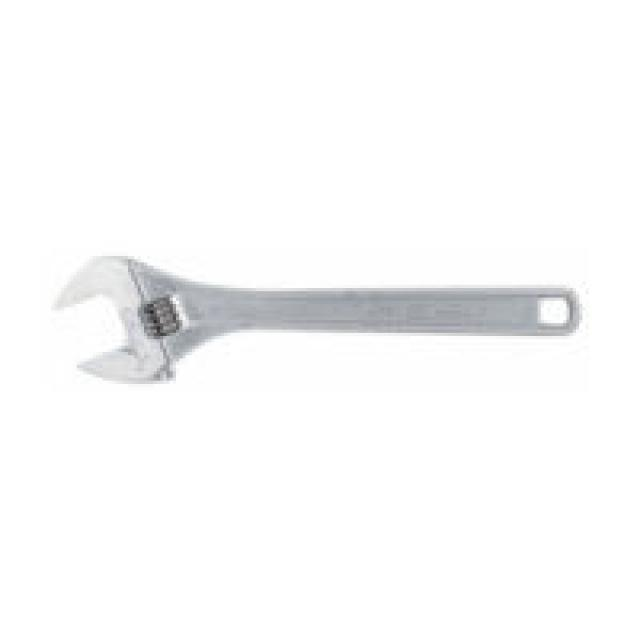wrench: (45, 248, 588, 392)
